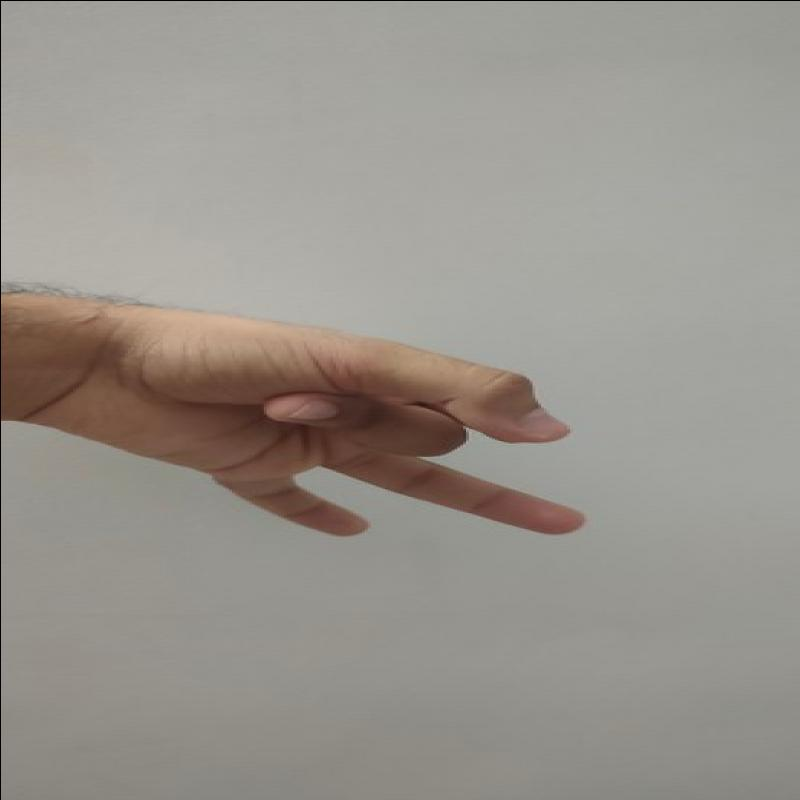Katakam: (66, 285, 627, 554)
